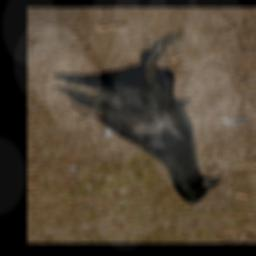Crow: (54, 32, 219, 206)
